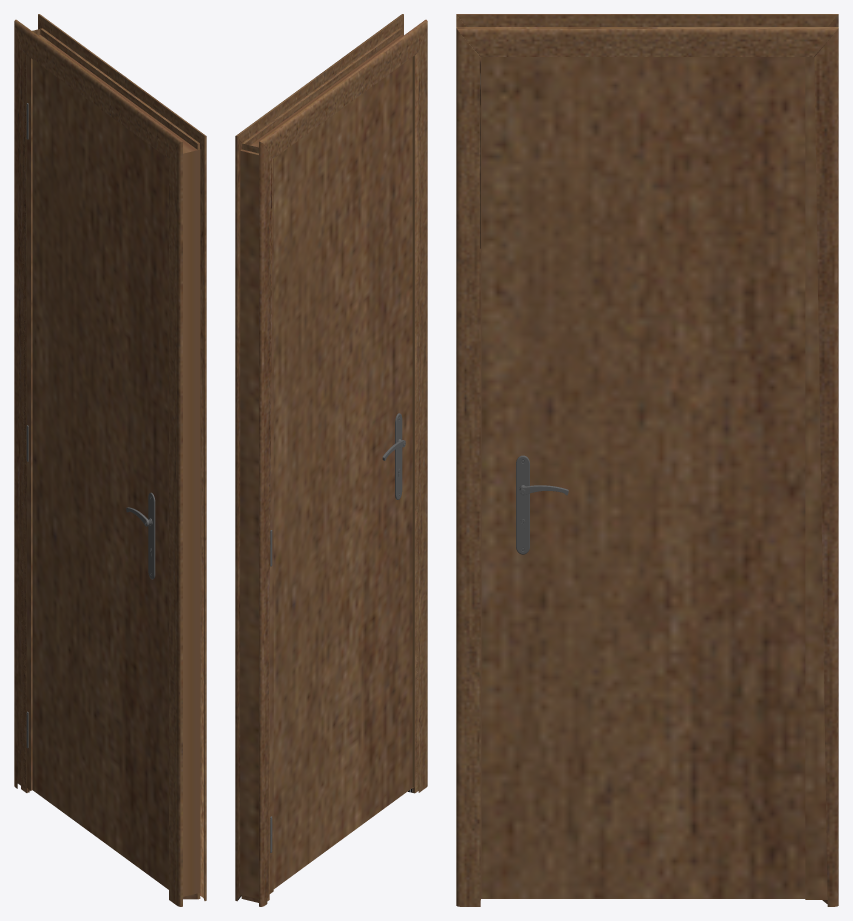
Rendered from Door.fbx.
3 renders of one model, left to right at view 1: azimuth 30°, elevation 25°; view 2: azimuth 150°, elevation 25°; view 3: azimuth 270°, elevation 25°, orthographic. The views are drawn at different scales.
Parts seen in each view (by area): view 1: Door_TurnThis, Door_Frame, Door, Door_Handle; view 2: Door_TurnThis, Door_Frame, Door, Door_Handle; view 3: Door_TurnThis, Door_Frame, Door, Door_Handle.
Boxes of the visible parts, <box> form: Door_TurnThis: <box>32,60,168,889</box>; Door_Frame: <box>14,14,206,906</box>; Door: <box>27,35,200,896</box>; Door_Handle: <box>126,492,155,579</box>; Door_TurnThis: <box>273,57,412,888</box>; Door_Frame: <box>235,14,427,906</box>; Door: <box>240,34,414,899</box>; Door_Handle: <box>382,413,405,499</box>; Door_TurnThis: <box>481,57,805,898</box>; Door_Frame: <box>456,14,838,906</box>; Door: <box>480,57,827,899</box>; Door_Handle: <box>516,455,568,554</box>.
Bounding box in the file's own units: 10.57 × 201 × 79.07.
1 material, 1 textured.
